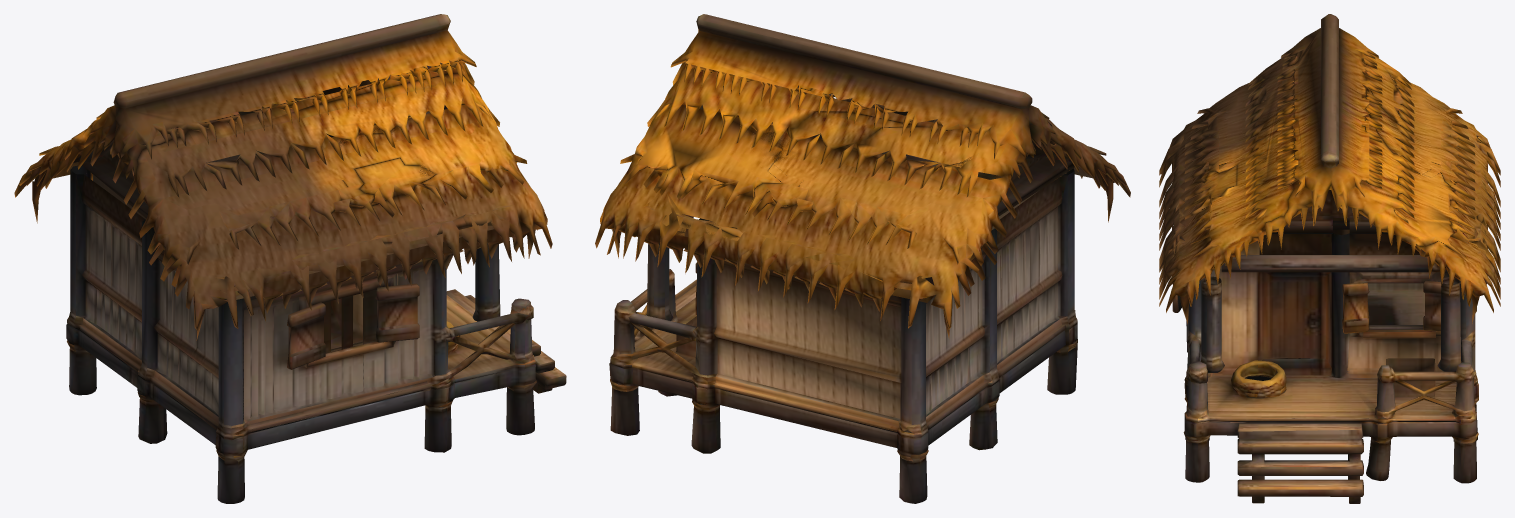
File: prop-hut-stilt-thatch-v2-desktop.glb
3 renders of one model, left to right at view 1: azimuth 30°, elevation 25°; view 2: azimuth 150°, elevation 25°; view 3: azimuth 270°, elevation 25°, orthographic. The views are drawn at different scales.
Parts seen in each view (by area): view 1: tripo_node_e3c786c5-6224-4adf-950e-f1d62a6280cc; view 2: tripo_node_e3c786c5-6224-4adf-950e-f1d62a6280cc; view 3: tripo_node_e3c786c5-6224-4adf-950e-f1d62a6280cc.
Boxes of the visible parts, x1,y1,x2,y2 form: tripo_node_e3c786c5-6224-4adf-950e-f1d62a6280cc: (14, 14, 566, 503); tripo_node_e3c786c5-6224-4adf-950e-f1d62a6280cc: (595, 14, 1130, 503); tripo_node_e3c786c5-6224-4adf-950e-f1d62a6280cc: (1159, 14, 1500, 503).
Bounding box in the file's own units: 1 × 0.8297 × 0.7926.
Materials: 1 (1 with a texture image).
